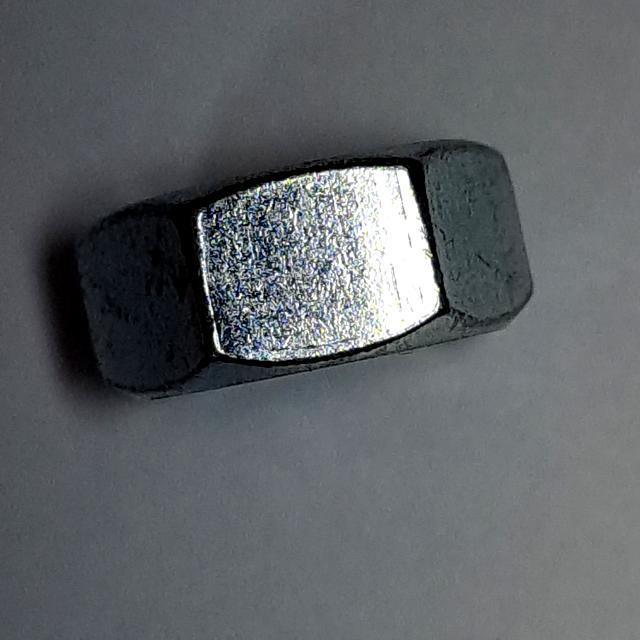Side_Excellent: (61, 127, 558, 418)
